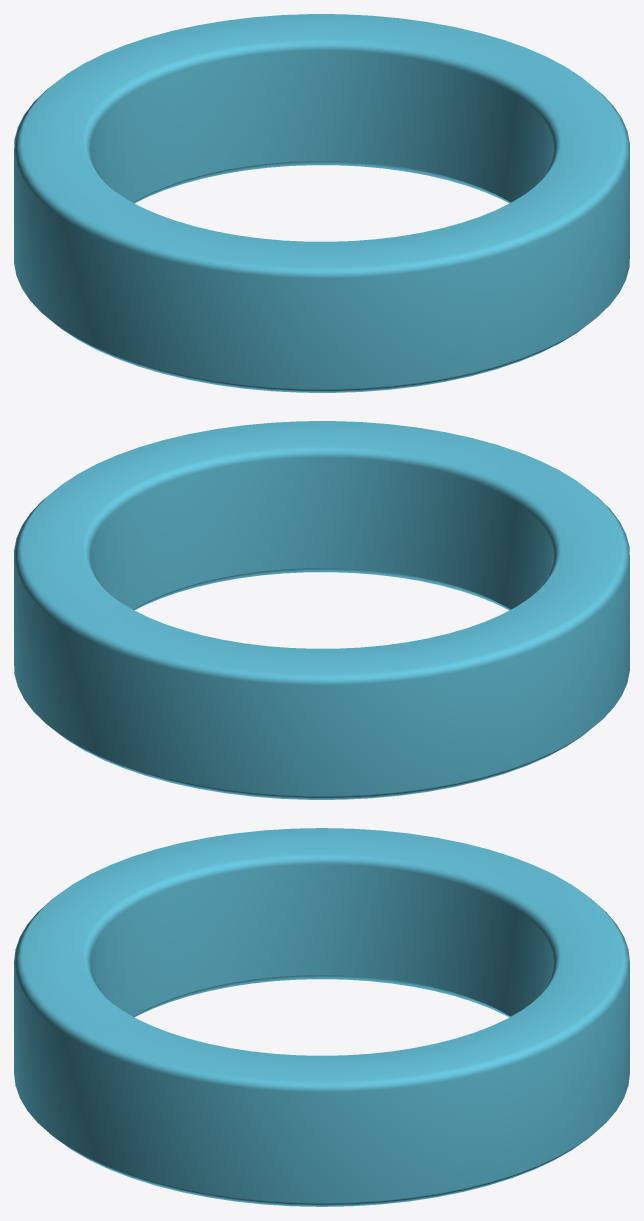
3 views of the same model, one above another, from view 1: azimuth 30°, elevation 25°; view 2: azimuth 150°, elevation 25°; view 3: azimuth 270°, elevation 25° (orthographic).
Parts seen in each view (by area): view 1: seal_body; view 2: seal_body; view 3: seal_body.
Boxes of the visible parts, bbox=[...] form: seal_body: bbox=[14, 14, 629, 392]; seal_body: bbox=[14, 421, 629, 799]; seal_body: bbox=[14, 828, 629, 1206].
Size of the model in its own units: 0.04 by 0.009 by 0.04.
